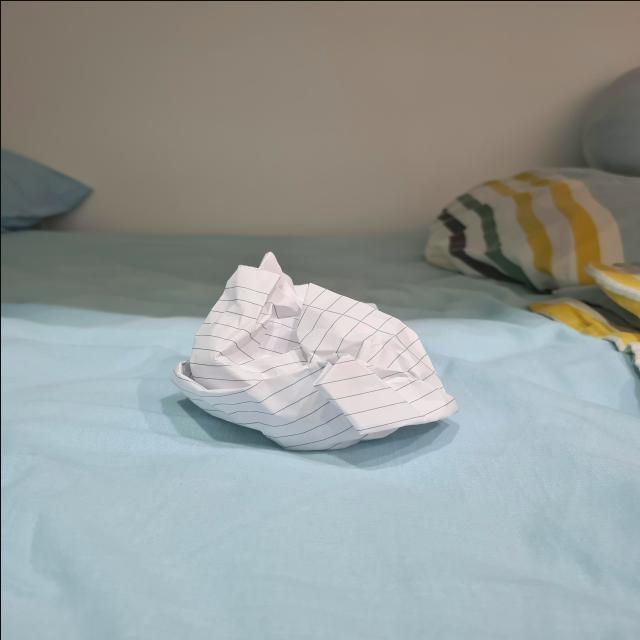Paper: (170, 250, 479, 480)
